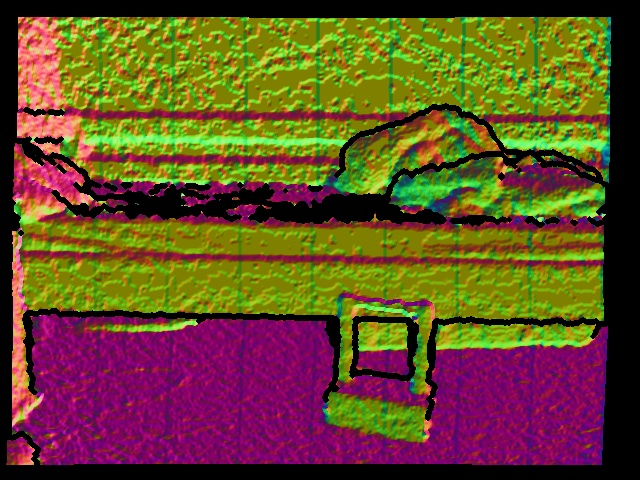station: (324, 291, 440, 441)
